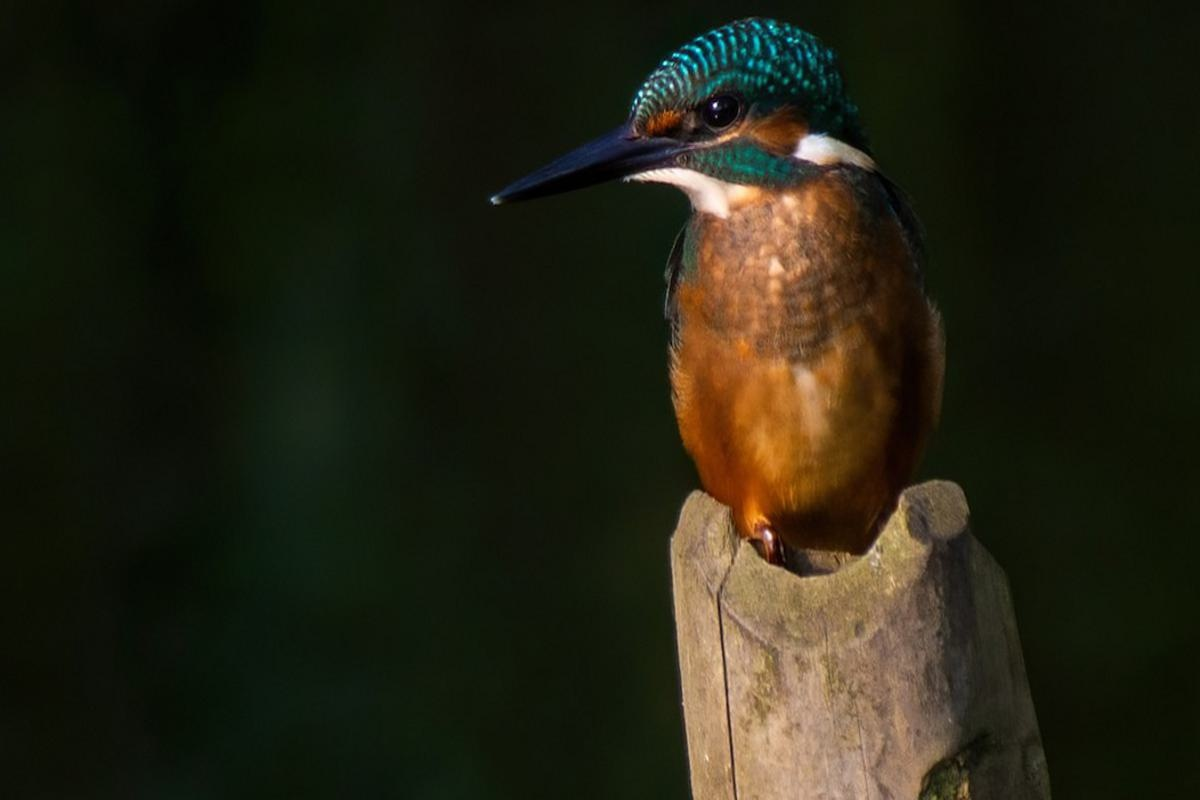kingfisher: (485, 29, 950, 530)
